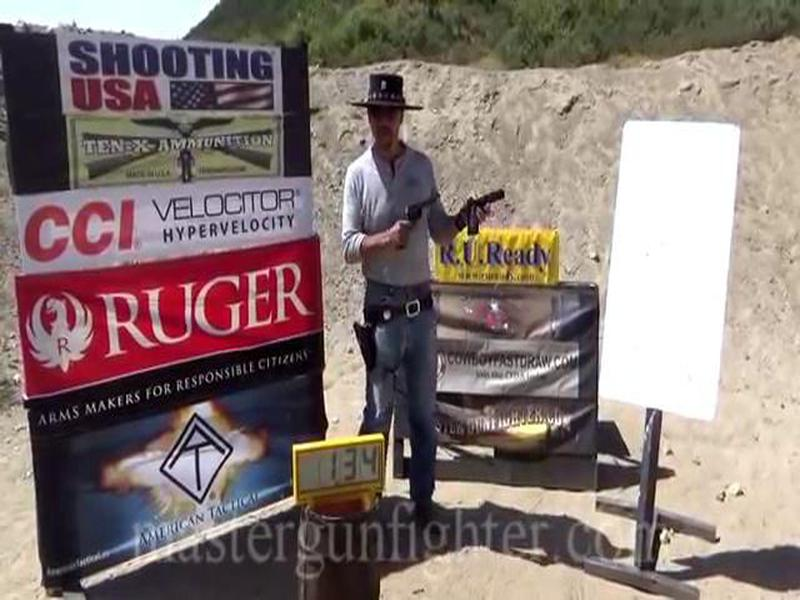Pistola: (459, 184, 513, 245)
Revolver: (392, 187, 449, 254)
